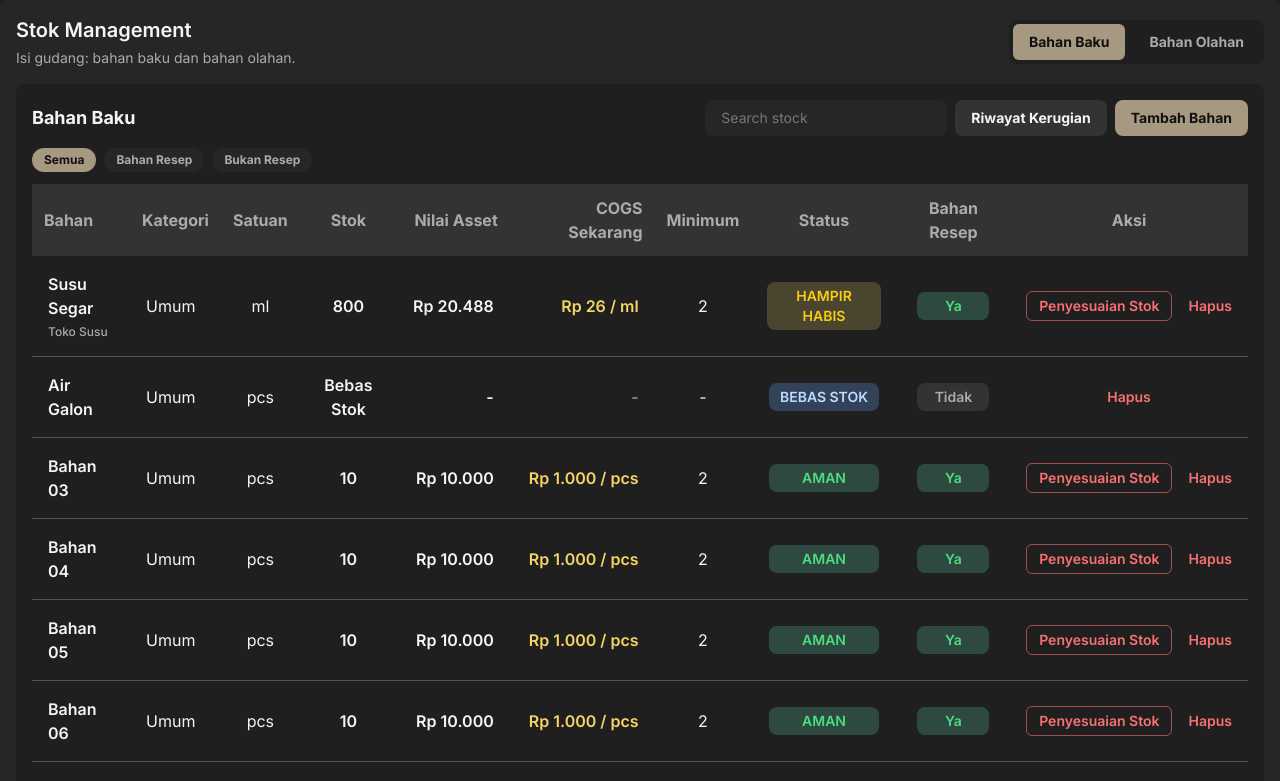
Scenario: stock management › has no Stock Opname or Riwayat Opname on either tab
Click the button "Bahan Olahan": [1197, 42] box [1134,24,1260,60]
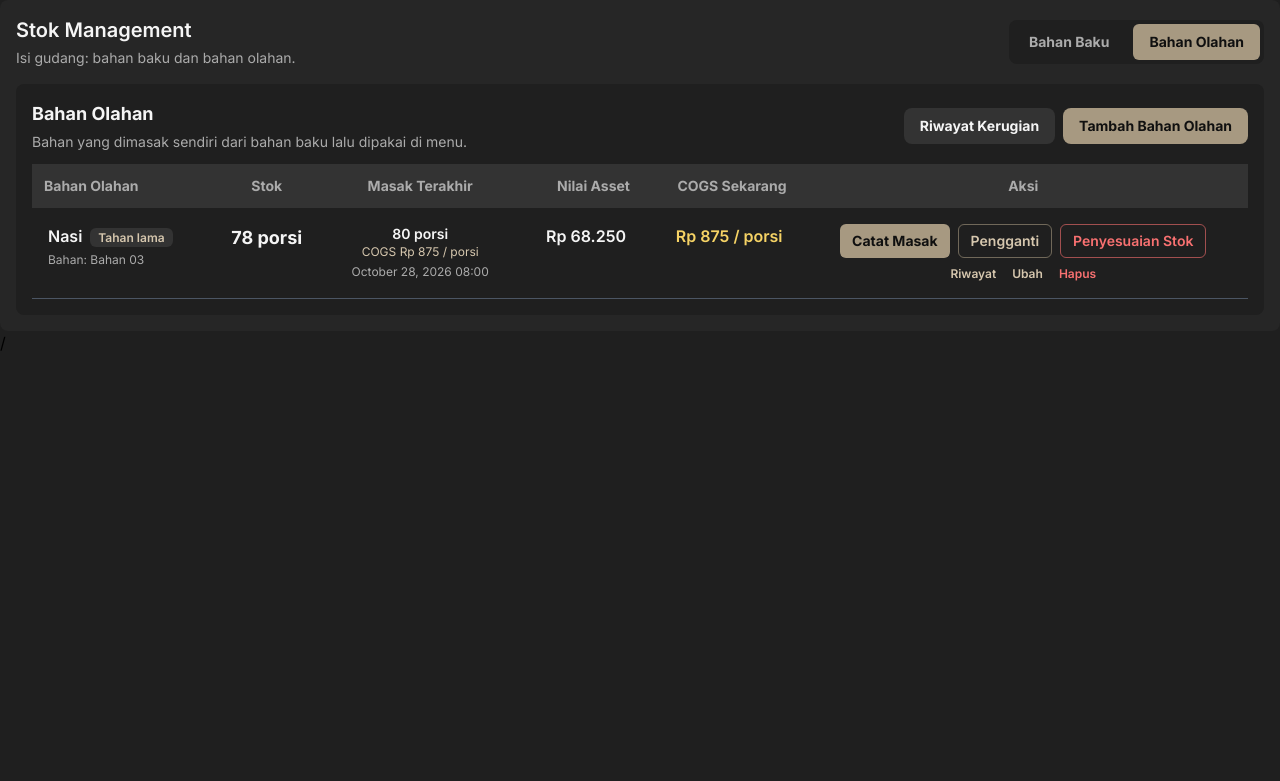
Expected: the row that starts with "Nasi" is shown, [32,208,1248,298]
